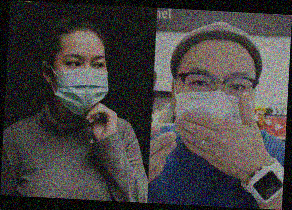with_mask: (173, 68, 257, 135), (53, 53, 109, 118)
